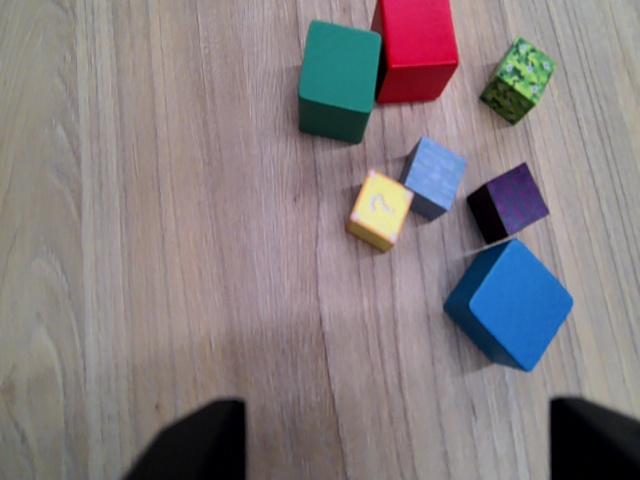brick: (469, 155, 549, 243)
grass: (486, 32, 553, 124)
lucky: (349, 170, 412, 248)
stone: (404, 134, 463, 213)
